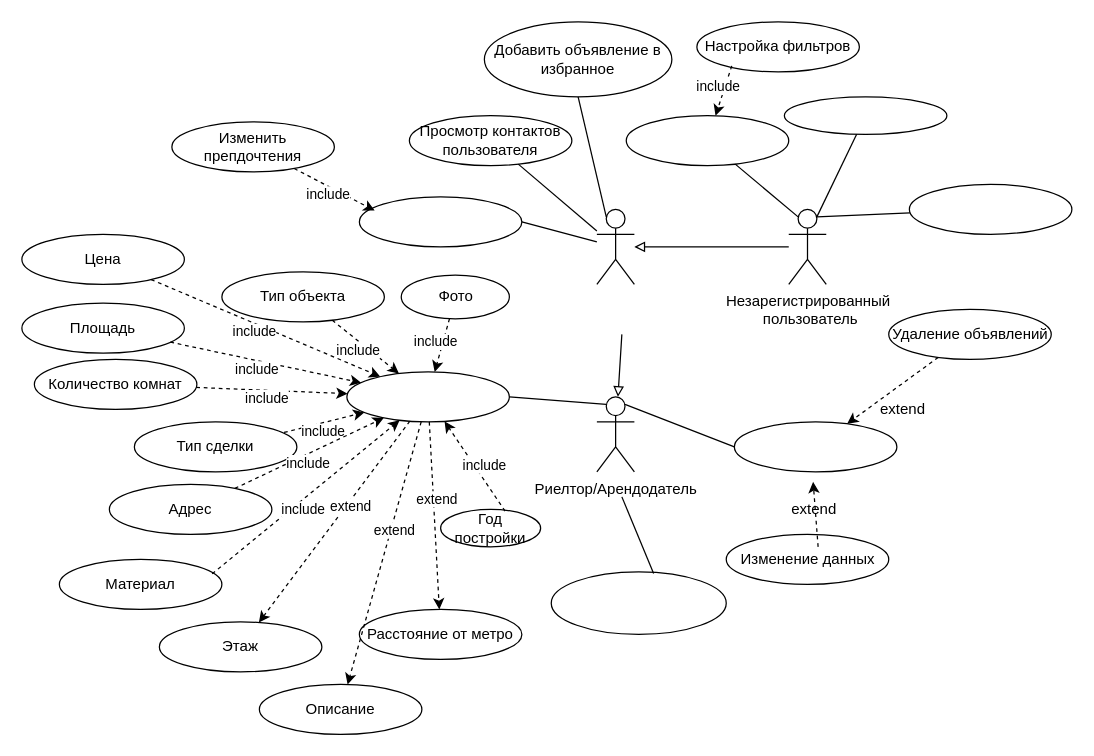
Image size: 1094x756. Some labels were removed from this diagram. The box of each missing label's shape, as (x1, y1, x2, y2) in pixels:
Авторизация: (908, 183, 1072, 234)
Зарегистрированный пользователь: (596, 208, 634, 284)
Просмотр информации о сделках: (550, 571, 726, 634)
Просмотр объявлений: (625, 114, 789, 166)
Регистрация: (783, 96, 947, 134)
Редактирование объявлений: (733, 421, 897, 472)
Редактирование профиля: (358, 196, 522, 247)
Создание объявлений: (346, 371, 509, 422)
